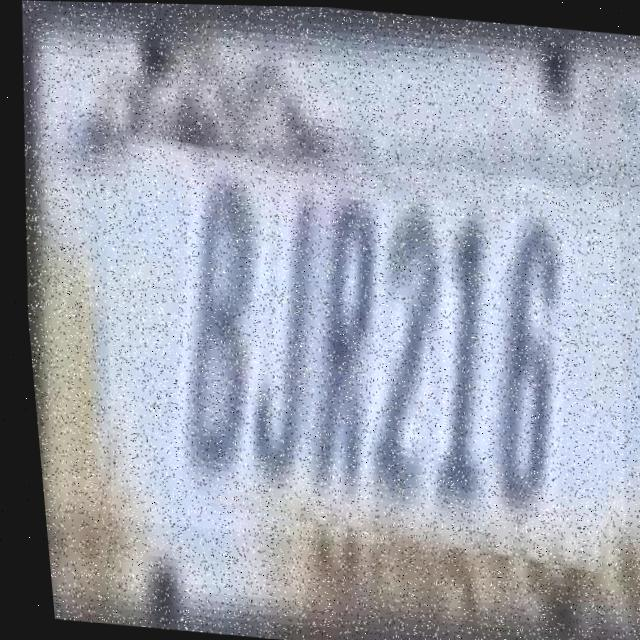LicensePlate: (76, 139, 640, 563)
